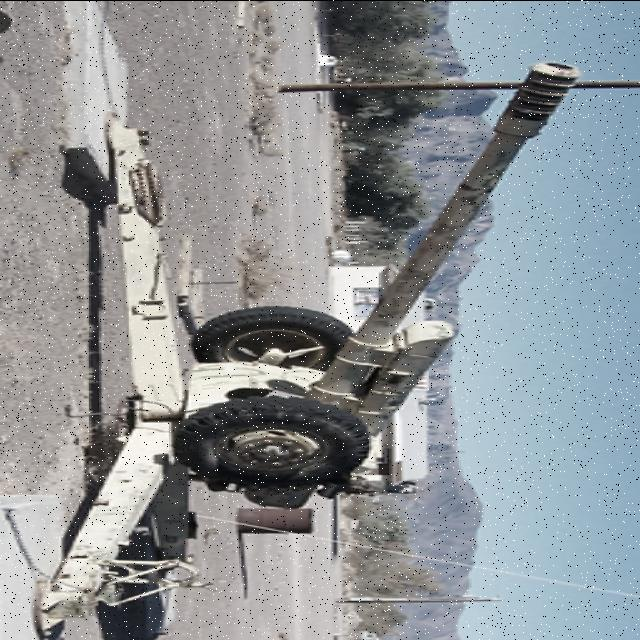ART: (36, 60, 584, 631)
